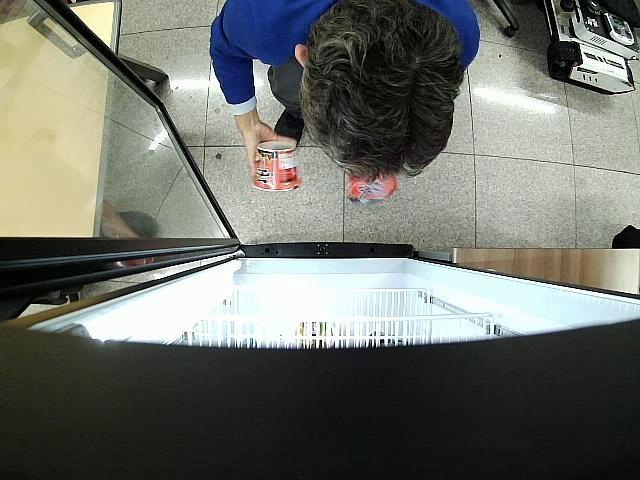01_ShinRamen_L: (252, 140, 304, 192)
